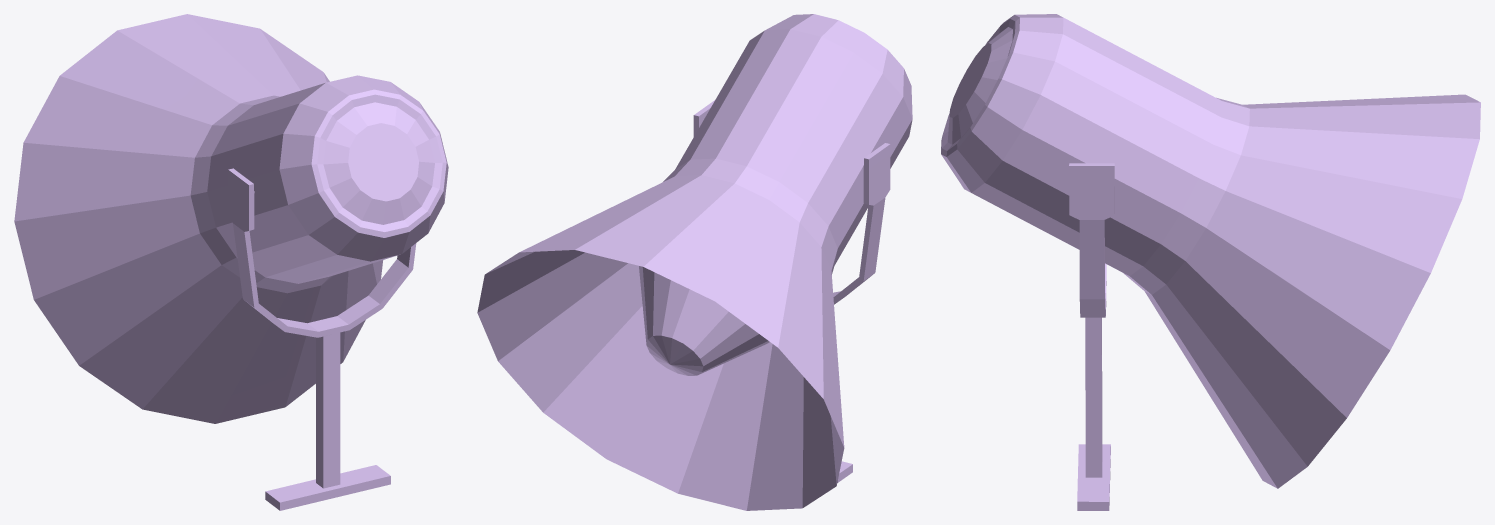
The model's file is loudspeaker2.fbx.
The picture shows the model from 3 angles, left to right: view 1: azimuth 30°, elevation 25°; view 2: azimuth 150°, elevation 25°; view 3: azimuth 270°, elevation 25°; orthographic projection. The views are drawn at different scales.
Visible parts, largest first — view 1: st_loudspeaker; view 2: st_loudspeaker; view 3: st_loudspeaker.
Part boxes in pixels (x1,y1,x2,y2): st_loudspeaker: (14,14,448,510); st_loudspeaker: (477,14,912,510); st_loudspeaker: (941,14,1480,510).
Size of the model in its own units: 35.19 by 40.6 by 43.41.
